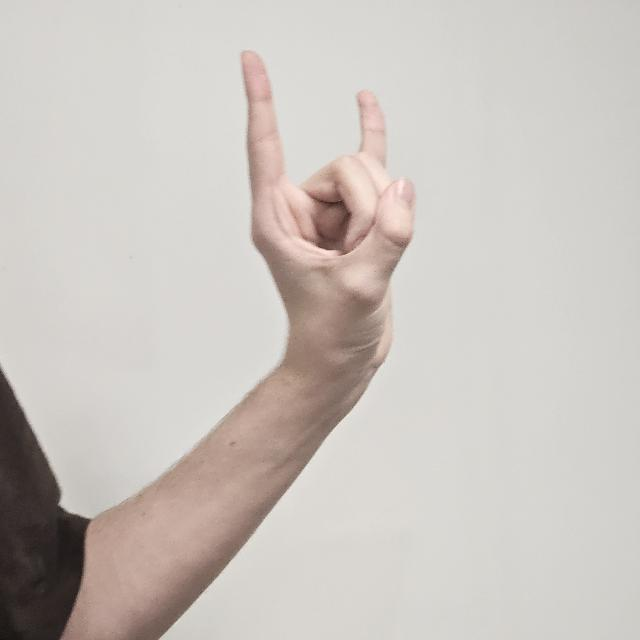L: (240, 48, 414, 392)
